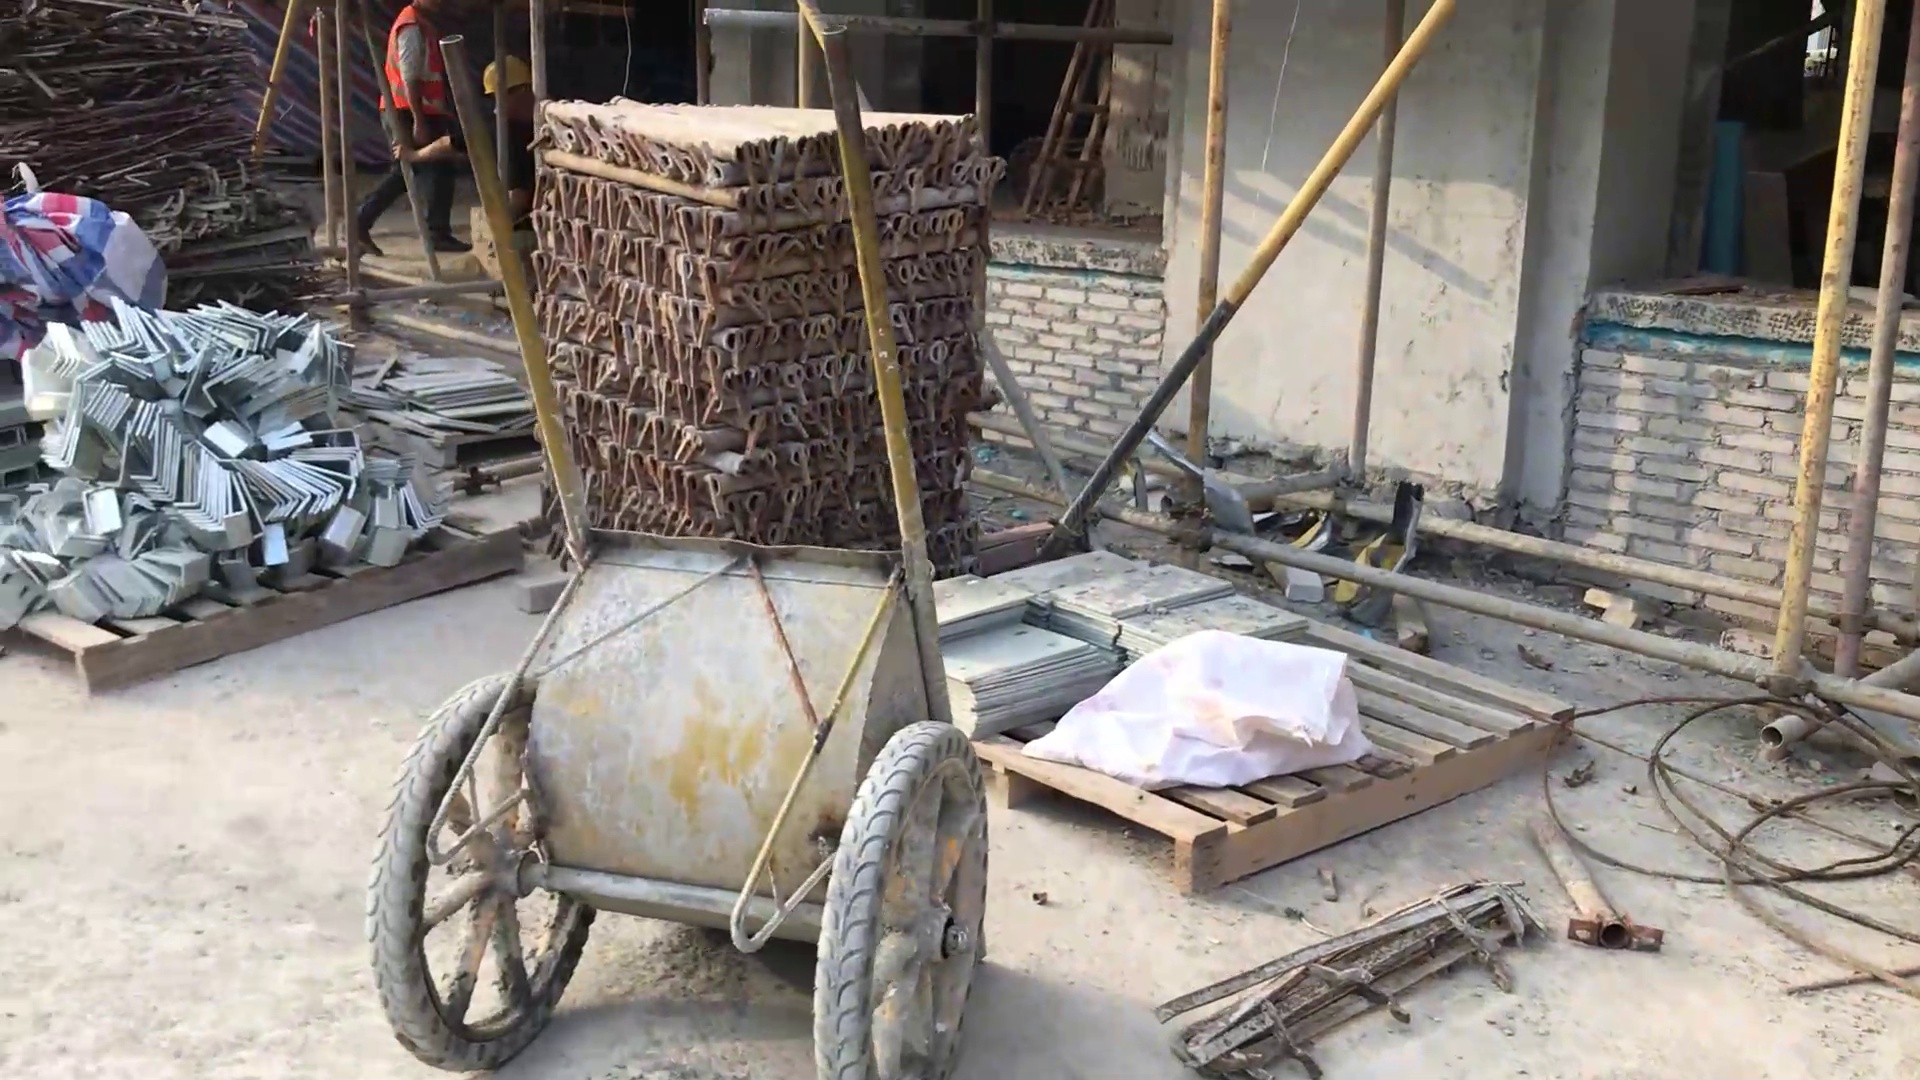handcart: (362, 21, 993, 1080)
helmet: (480, 50, 533, 97)
person: (351, 1, 479, 258)
scaffold: (524, 94, 990, 586)
vest: (377, 4, 447, 117)
